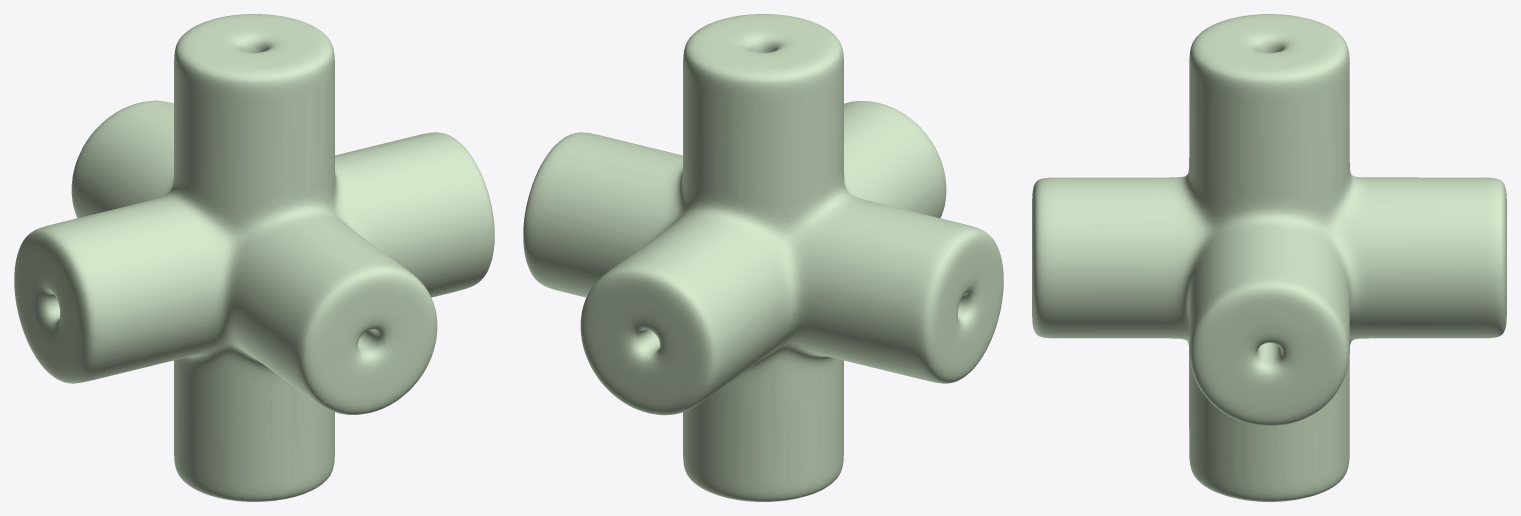
The model's file is abstract.glb.
3 views of the same model, side by side, from view 1: azimuth 30°, elevation 25°; view 2: azimuth 150°, elevation 25°; view 3: azimuth 270°, elevation 25° (orthographic).
Visible parts, largest first — view 1: Circle.002; view 2: Circle.002; view 3: Circle.002.
Part boxes in pixels (x1,y1,x2,y2): Circle.002: (14, 14, 494, 501); Circle.002: (523, 14, 1003, 501); Circle.002: (1032, 14, 1506, 501).
Size of the model in its own units: 0.6 by 0.6 by 0.6.
